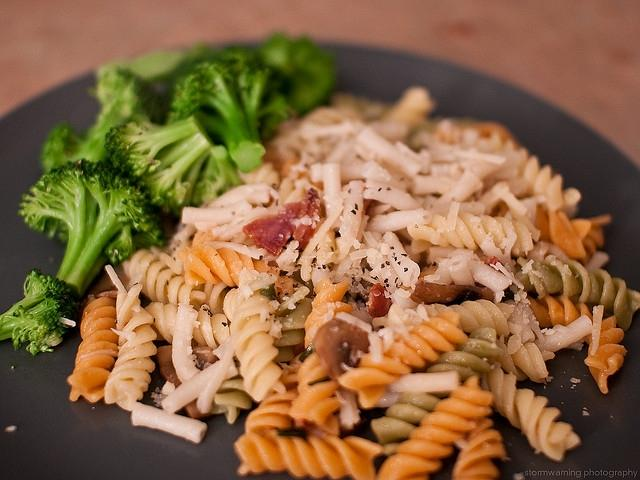broccoli: (18, 160, 165, 294), (166, 47, 298, 172), (39, 64, 166, 176), (106, 116, 212, 216), (256, 34, 340, 116), (0, 268, 79, 355), (94, 44, 226, 87), (190, 146, 244, 206)
